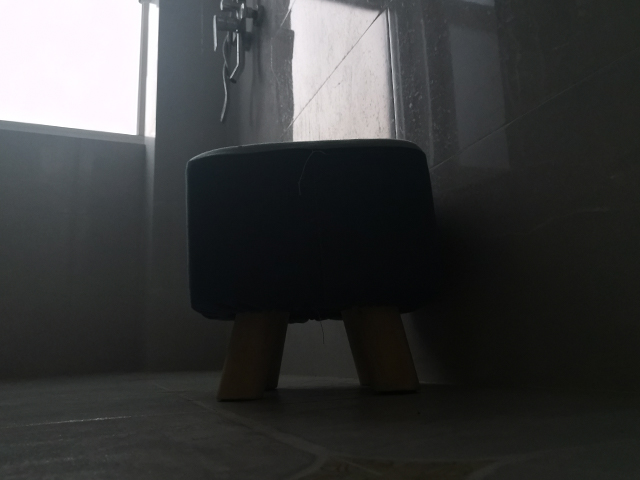stool: (185, 137, 444, 408)
